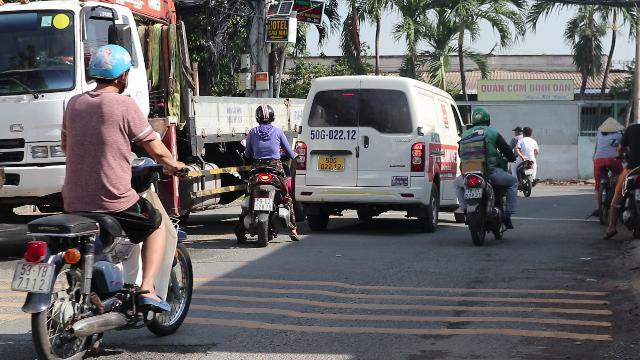helmet: (85, 44, 133, 92), (254, 103, 276, 124), (470, 106, 490, 126)
licenseplate: (12, 263, 52, 291), (254, 197, 272, 210), (464, 188, 482, 198)
motorcyclist: (1, 42, 201, 352), (233, 103, 300, 245), (451, 105, 517, 243)
